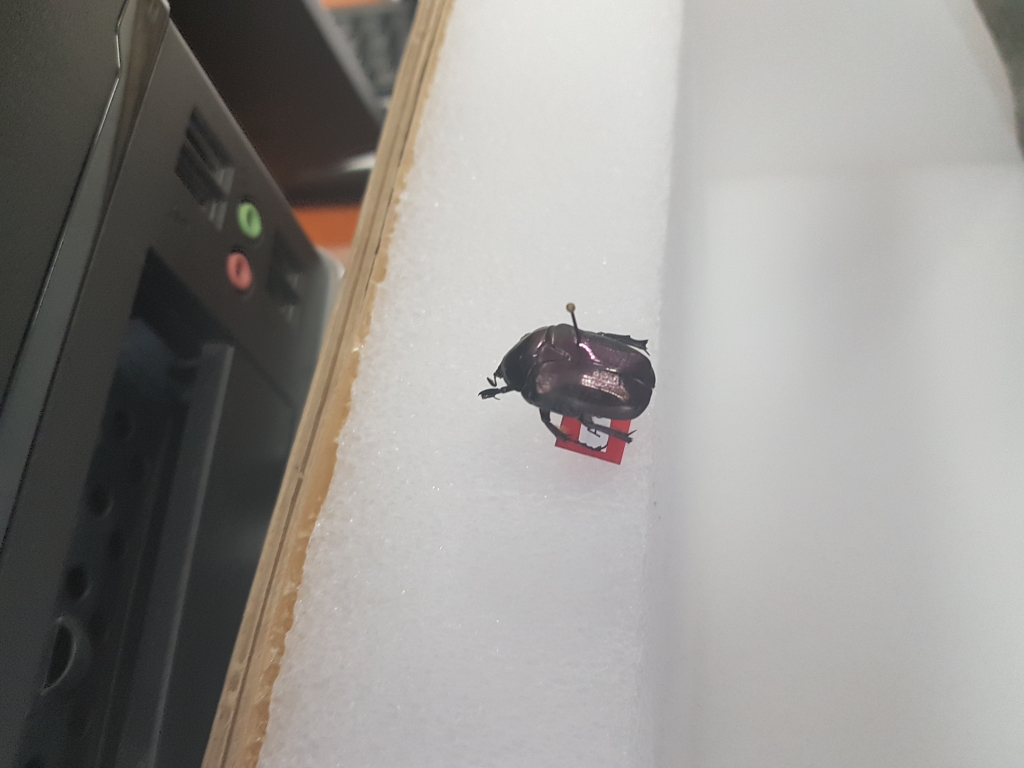Protaetia_besucheti: (481, 317, 659, 438)
